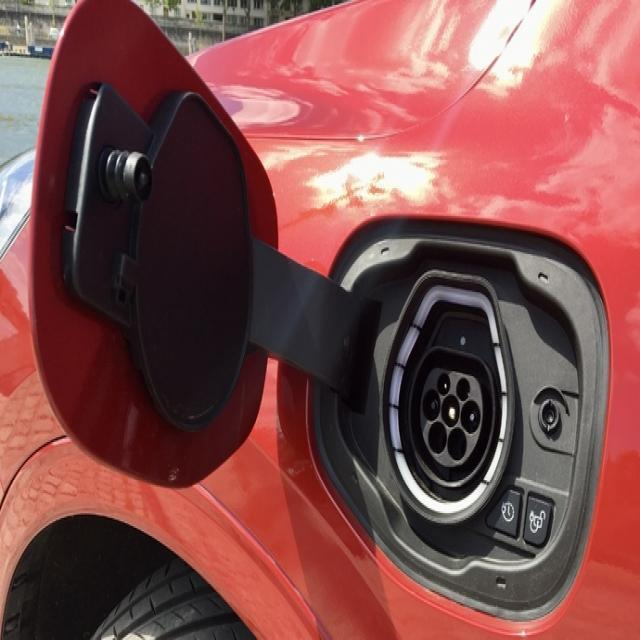Type 2: (392, 340, 518, 492)
